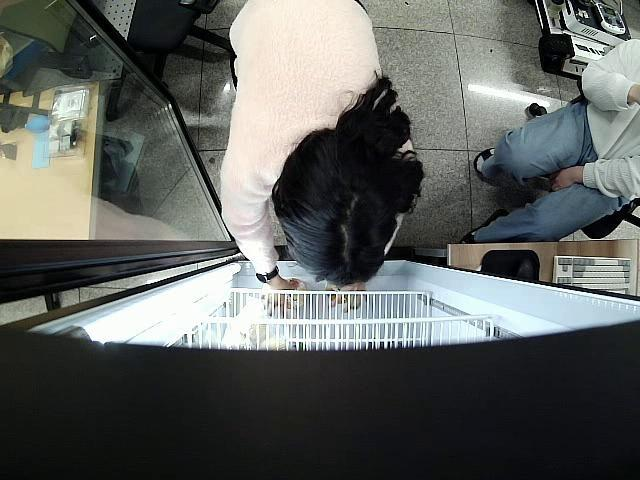04_chapagetti_S: (281, 276, 310, 308), (326, 285, 360, 311)
